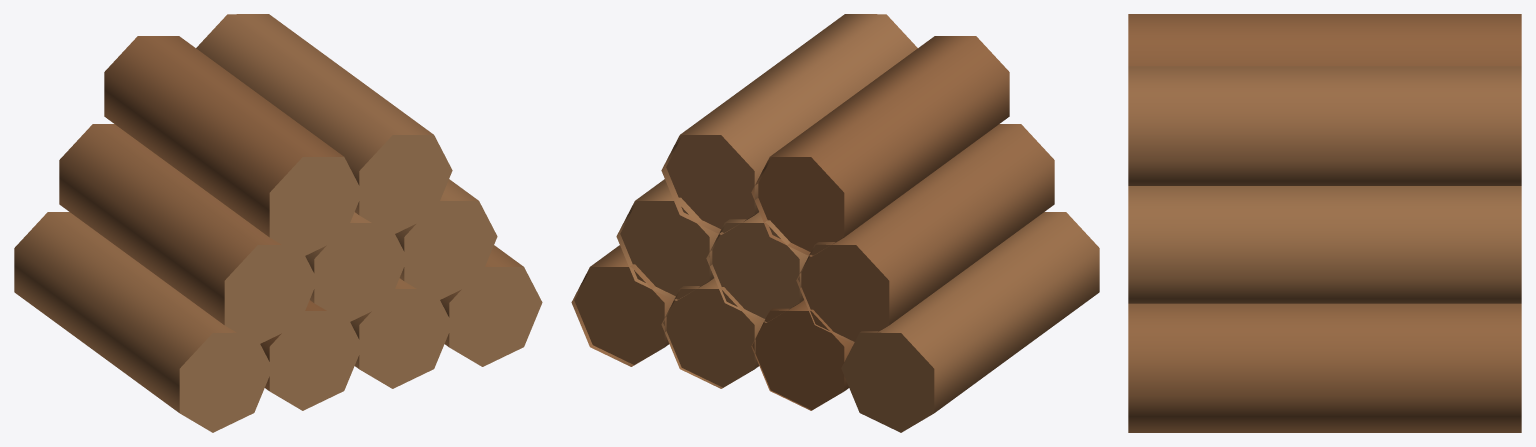
The model's file is woodpile.fbx.
3 views of the same model, side by side, from view 1: azimuth 30°, elevation 25°; view 2: azimuth 150°, elevation 25°; view 3: azimuth 270°, elevation 25° (orthographic). The views are drawn at different scales.
Visible parts, largest first — view 1: woodpile; view 2: woodpile; view 3: woodpile.
Boxes of the visible parts, x1=… form: woodpile: x1=14, y1=14, x2=542, y2=432; woodpile: x1=571, y1=14, x2=1099, y2=432; woodpile: x1=1128, y1=14, x2=1521, y2=432.
Size of the model in its own units: 0.0888 by 0.0594 by 0.07.
